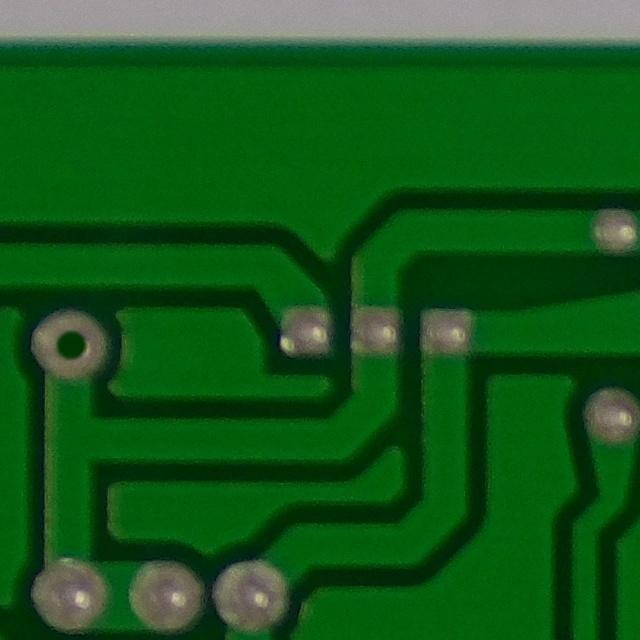missing_hole: (30, 301, 109, 386)
